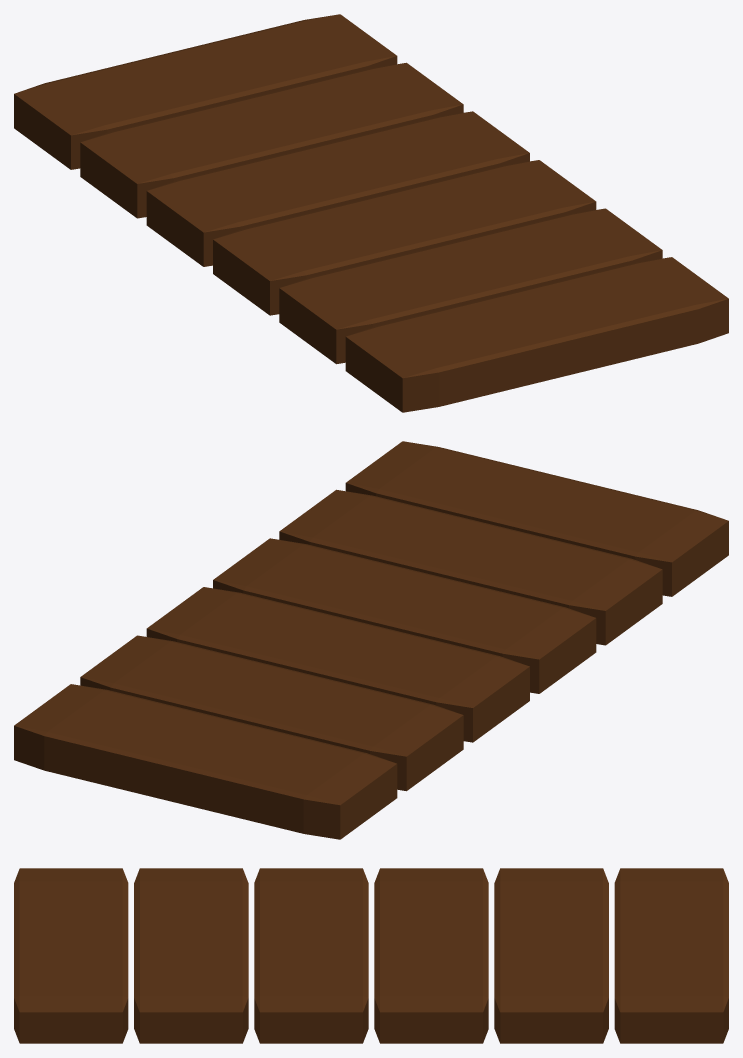
File: Pier_02.fbx
The picture shows the model from 3 angles, top to bottom: view 1: azimuth 30°, elevation 25°; view 2: azimuth 150°, elevation 25°; view 3: azimuth 270°, elevation 25°; orthographic projection. The views are drawn at different scales.
Parts seen in each view (by area): view 1: Cube.002; view 2: Cube.002; view 3: Cube.002.
Part boxes in pixels (<box>): Cube.002: <box>14,14,728,412</box>; Cube.002: <box>14,441,728,839</box>; Cube.002: <box>14,868,728,1043</box>.
Bounding box in the file's own units: 226 × 474 × 25.42.
